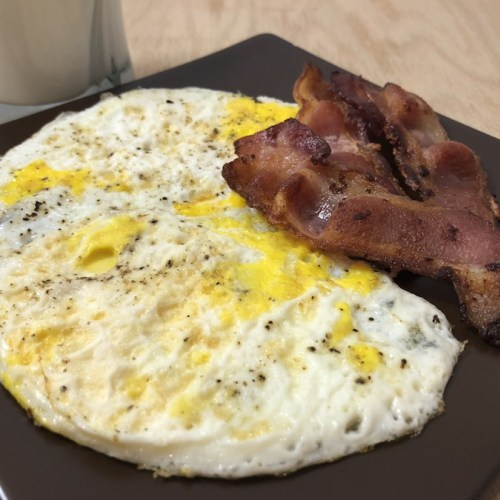fried egg: (88, 132, 294, 446)
